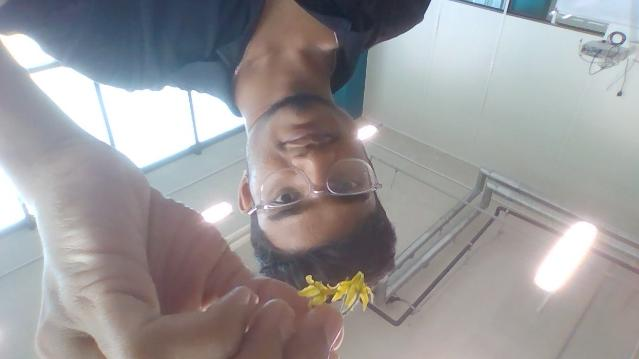Anthesis: (332, 271, 373, 313), (297, 275, 336, 308)
